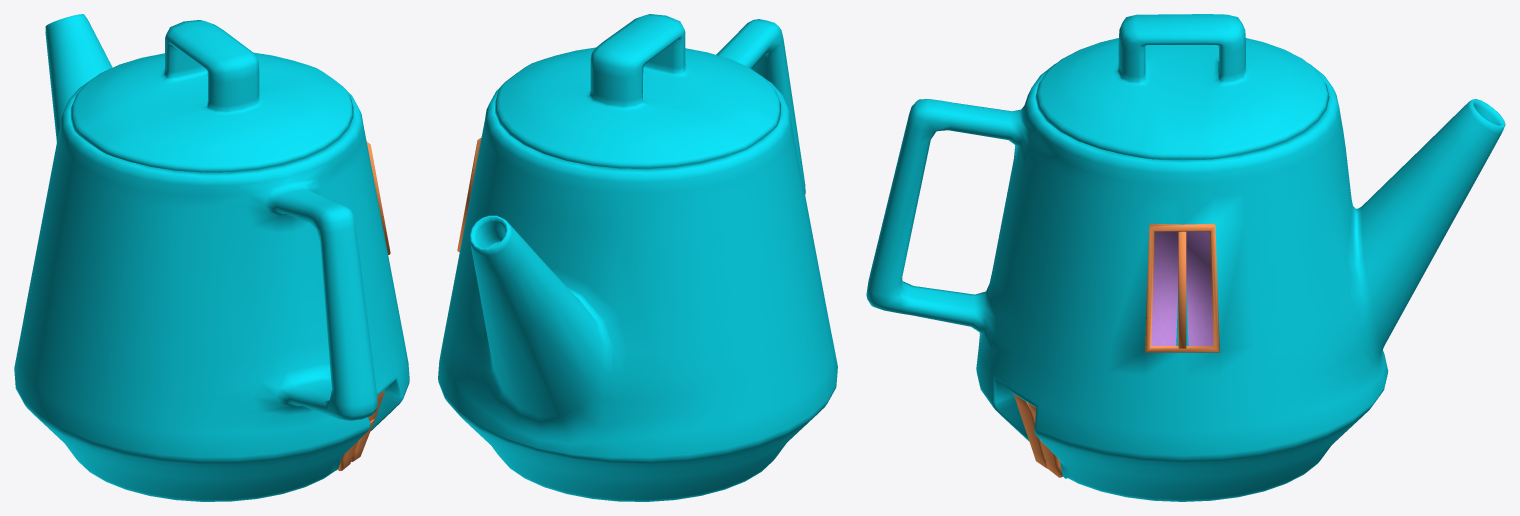
File: Kettle_2.fbx
3 views of the same model, side by side, from view 1: azimuth 30°, elevation 25°; view 2: azimuth 150°, elevation 25°; view 3: azimuth 270°, elevation 25° (orthographic). The views are drawn at different scales.
Parts seen in each view (by area): view 1: Kettle top 2; view 2: Kettle top 2; view 3: Kettle top 2.
Part boxes in pixels (x1=…): Kettle top 2: x1=14, y1=14, x2=409, y2=501; Kettle top 2: x1=438, y1=14, x2=837, y2=501; Kettle top 2: x1=866, y1=14, x2=1505, y2=501.
Size of the model in its own units: 545 by 614 by 845.
